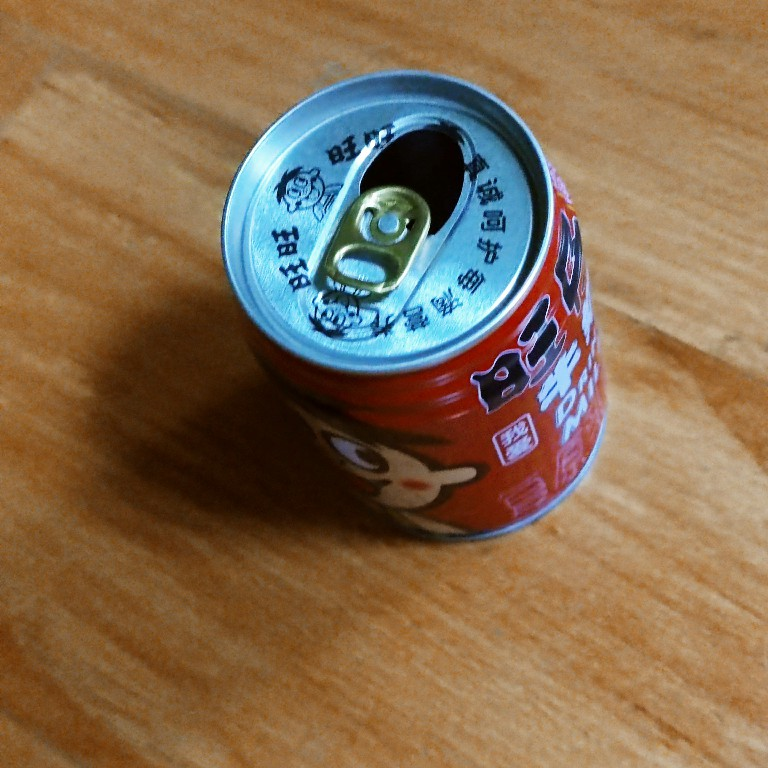can: (217, 66, 611, 542)
